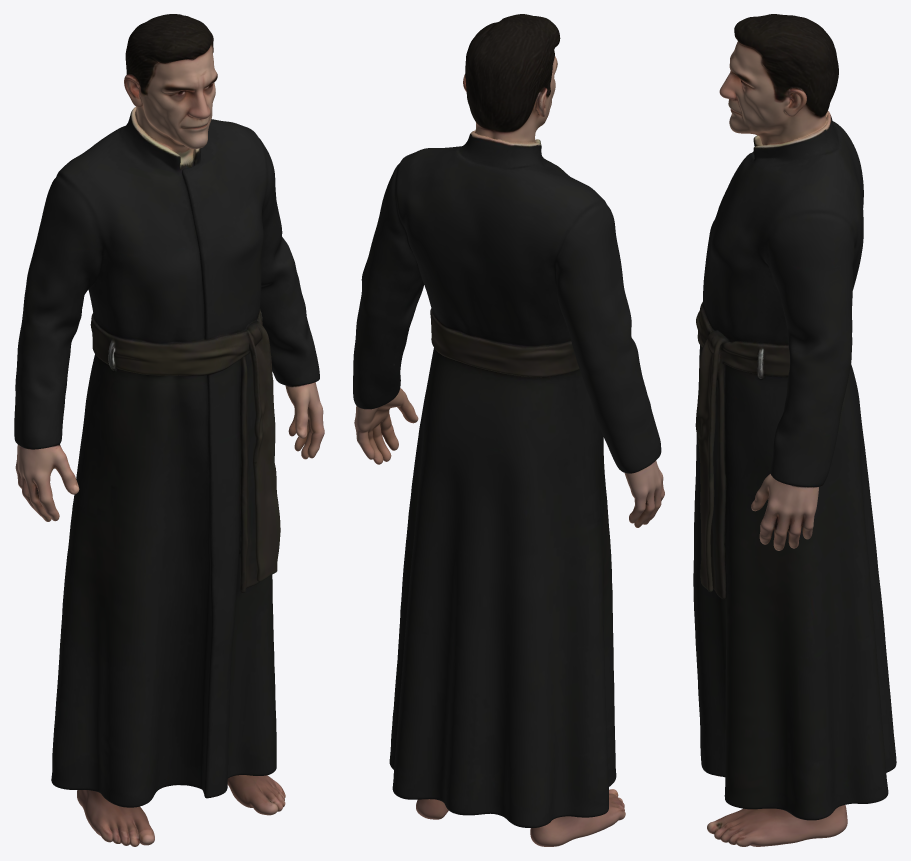
Rendered from 35-el-sacerdote-gigante-de-la-iglesia-optimized.glb.
The picture shows the model from 3 angles, left to right: view 1: azimuth 30°, elevation 25°; view 2: azimuth 150°, elevation 25°; view 3: azimuth 270°, elevation 25°; orthographic projection.
Parts seen in each view (by area): view 1: tripo_node_e9d25bed-ef22-4f7e-ae39-8210c65ecaf0; view 2: tripo_node_e9d25bed-ef22-4f7e-ae39-8210c65ecaf0; view 3: tripo_node_e9d25bed-ef22-4f7e-ae39-8210c65ecaf0.
Boxes of the visible parts, x1,y1,x2,y2 form: tripo_node_e9d25bed-ef22-4f7e-ae39-8210c65ecaf0: [14, 14, 324, 846]; tripo_node_e9d25bed-ef22-4f7e-ae39-8210c65ecaf0: [353, 14, 664, 846]; tripo_node_e9d25bed-ef22-4f7e-ae39-8210c65ecaf0: [693, 14, 896, 846].
Size of the model in its own units: 0.3927 by 1 by 0.2337.
1 material, 1 textured.
